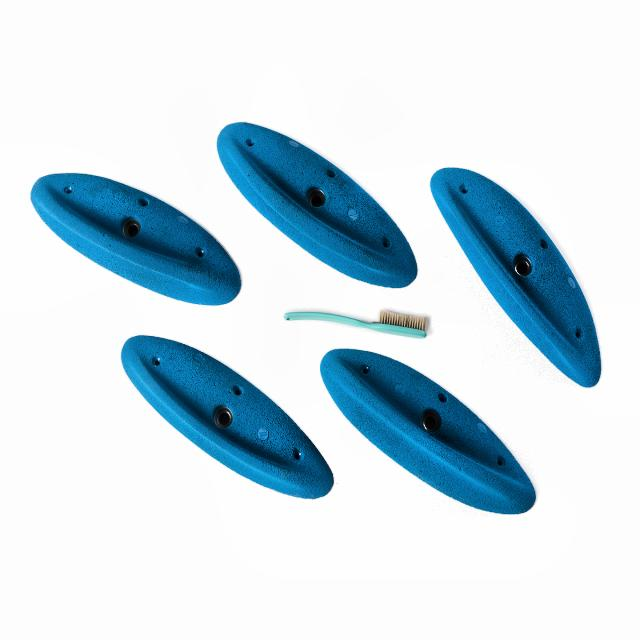Hold: (429, 162, 609, 380), (327, 353, 544, 524), (214, 124, 430, 295), (114, 340, 330, 510), (31, 159, 237, 314)
